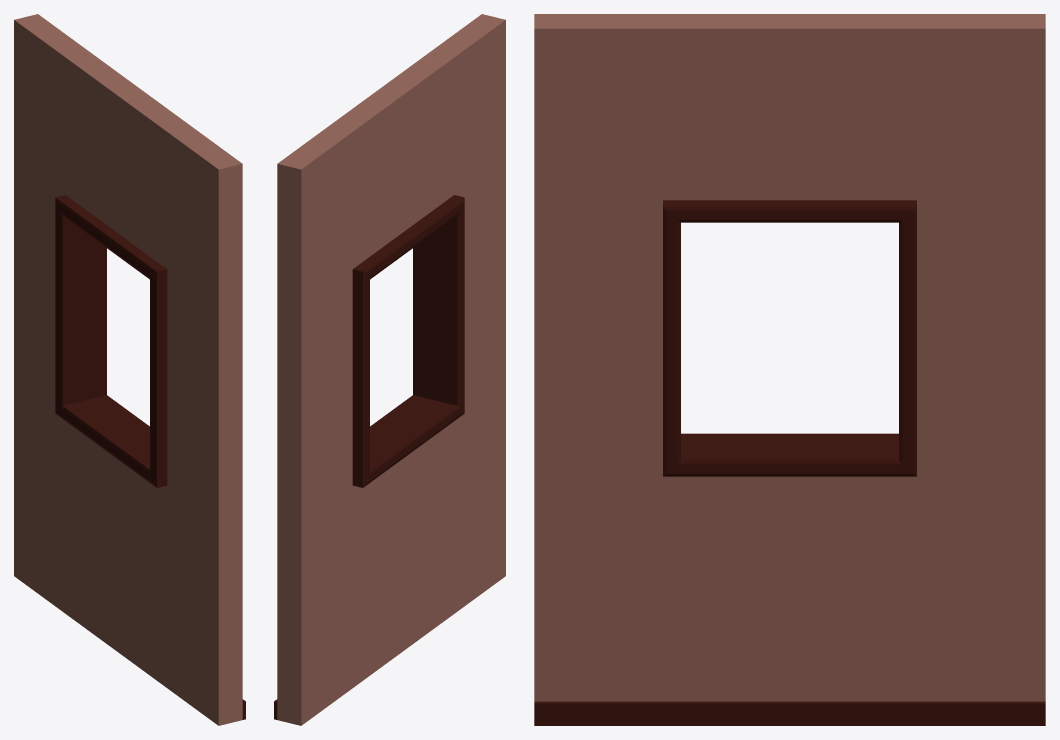
Rendered from T_Fenetre_01.fbx.
3 renders of one model, left to right at view 1: azimuth 30°, elevation 25°; view 2: azimuth 150°, elevation 25°; view 3: azimuth 270°, elevation 25°, orthographic. The views are drawn at different scales.
Parts seen in each view (by area): view 1: T_Fenetre_01; view 2: T_Fenetre_01; view 3: T_Fenetre_01.
Part boxes in pixels (x1,y1,x2,y2): T_Fenetre_01: [14, 14, 245, 725]; T_Fenetre_01: [274, 14, 505, 725]; T_Fenetre_01: [534, 14, 1045, 725].
Bounding box in the file's own units: 26.02 × 300 × 200.
